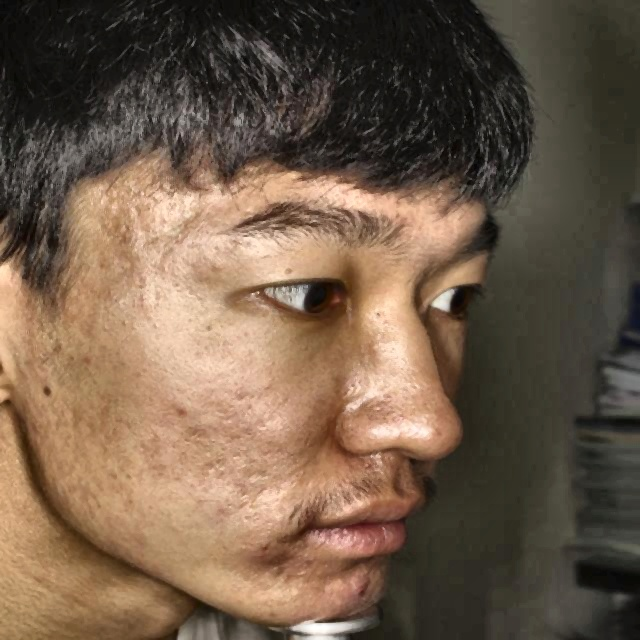comedone: (342, 570, 380, 601)
